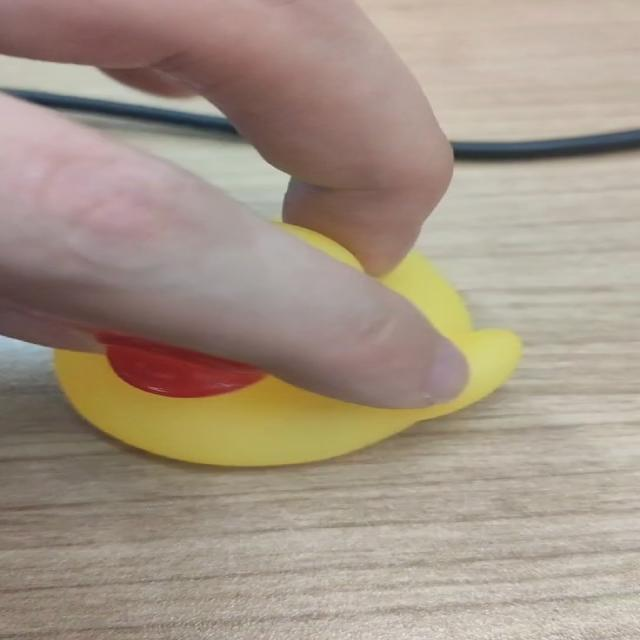rubber-duck: (54, 251, 519, 464)
